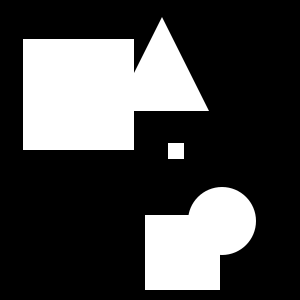circle: (23, 39, 134, 150), (145, 215, 220, 290), (168, 143, 184, 159)
rectangle: (188, 187, 256, 255)
triangle: (115, 17, 209, 111)
